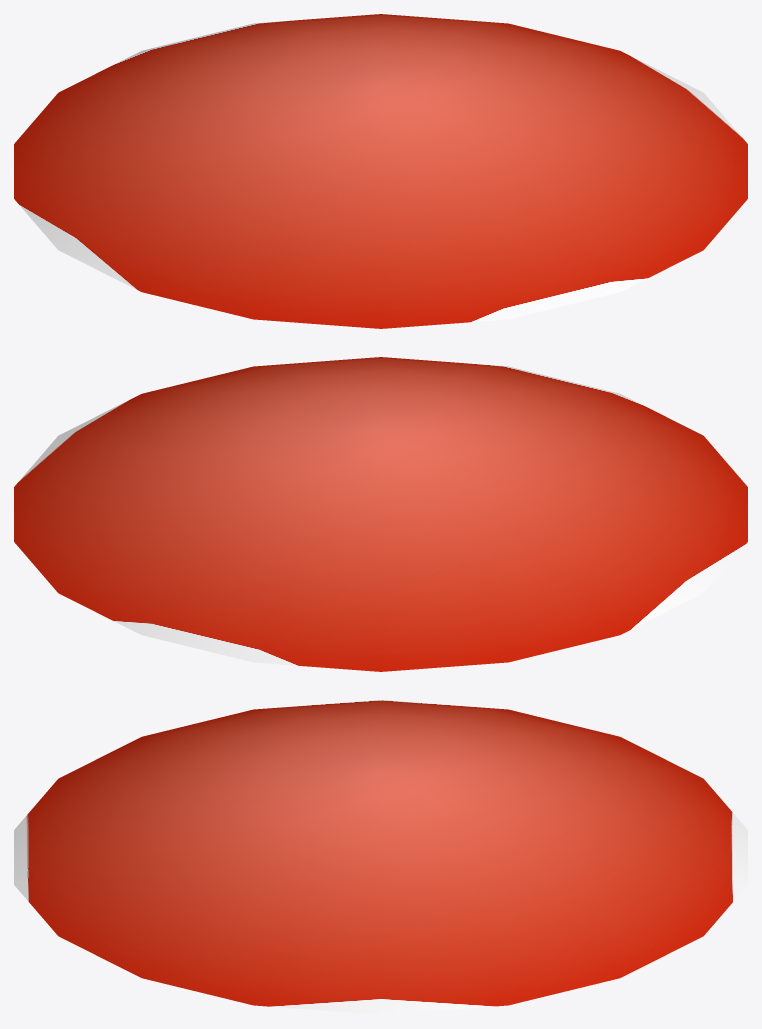
Rendered from EnergyShield.fbx.
The picture shows the model from 3 angles, top to bottom: view 1: azimuth 30°, elevation 25°; view 2: azimuth 150°, elevation 25°; view 3: azimuth 270°, elevation 25°; orthographic projection.
Parts seen in each view (by area): view 1: SM_EnergyShield001; view 2: SM_EnergyShield001; view 3: SM_EnergyShield001.
Part boxes in pixels (<box>): SM_EnergyShield001: <box>14,14,747,328</box>; SM_EnergyShield001: <box>14,357,747,671</box>; SM_EnergyShield001: <box>14,700,747,1014</box>.
Size of the model in its own units: 83.98 by 10.5 by 82.7.
